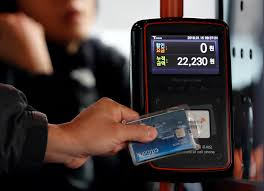terminal: (127, 15, 237, 175)
